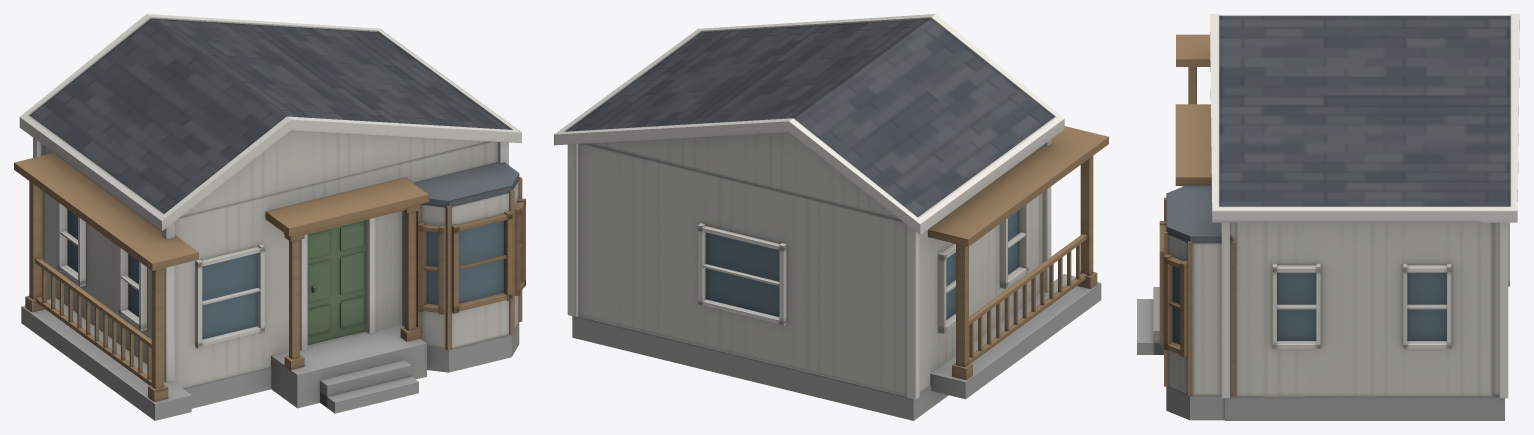
The model's file is House_05_Saltbox_Bay.fbx.
3 views of the same model, side by side, from view 1: azimuth 30°, elevation 25°; view 2: azimuth 150°, elevation 25°; view 3: azimuth 270°, elevation 25° (orthographic). The views are drawn at different scales.
Visible parts, largest first — view 1: House_05_Saltbox_Bay; view 2: House_05_Saltbox_Bay; view 3: House_05_Saltbox_Bay.
Boxes of the visible parts, x1,y1,x2,y2 form: House_05_Saltbox_Bay: [14, 14, 525, 420]; House_05_Saltbox_Bay: [554, 14, 1108, 420]; House_05_Saltbox_Bay: [1137, 14, 1519, 420].
Size of the model in its own units: 7.24 by 4.86 by 5.78.
Materials: 1 (1 with a texture image).
